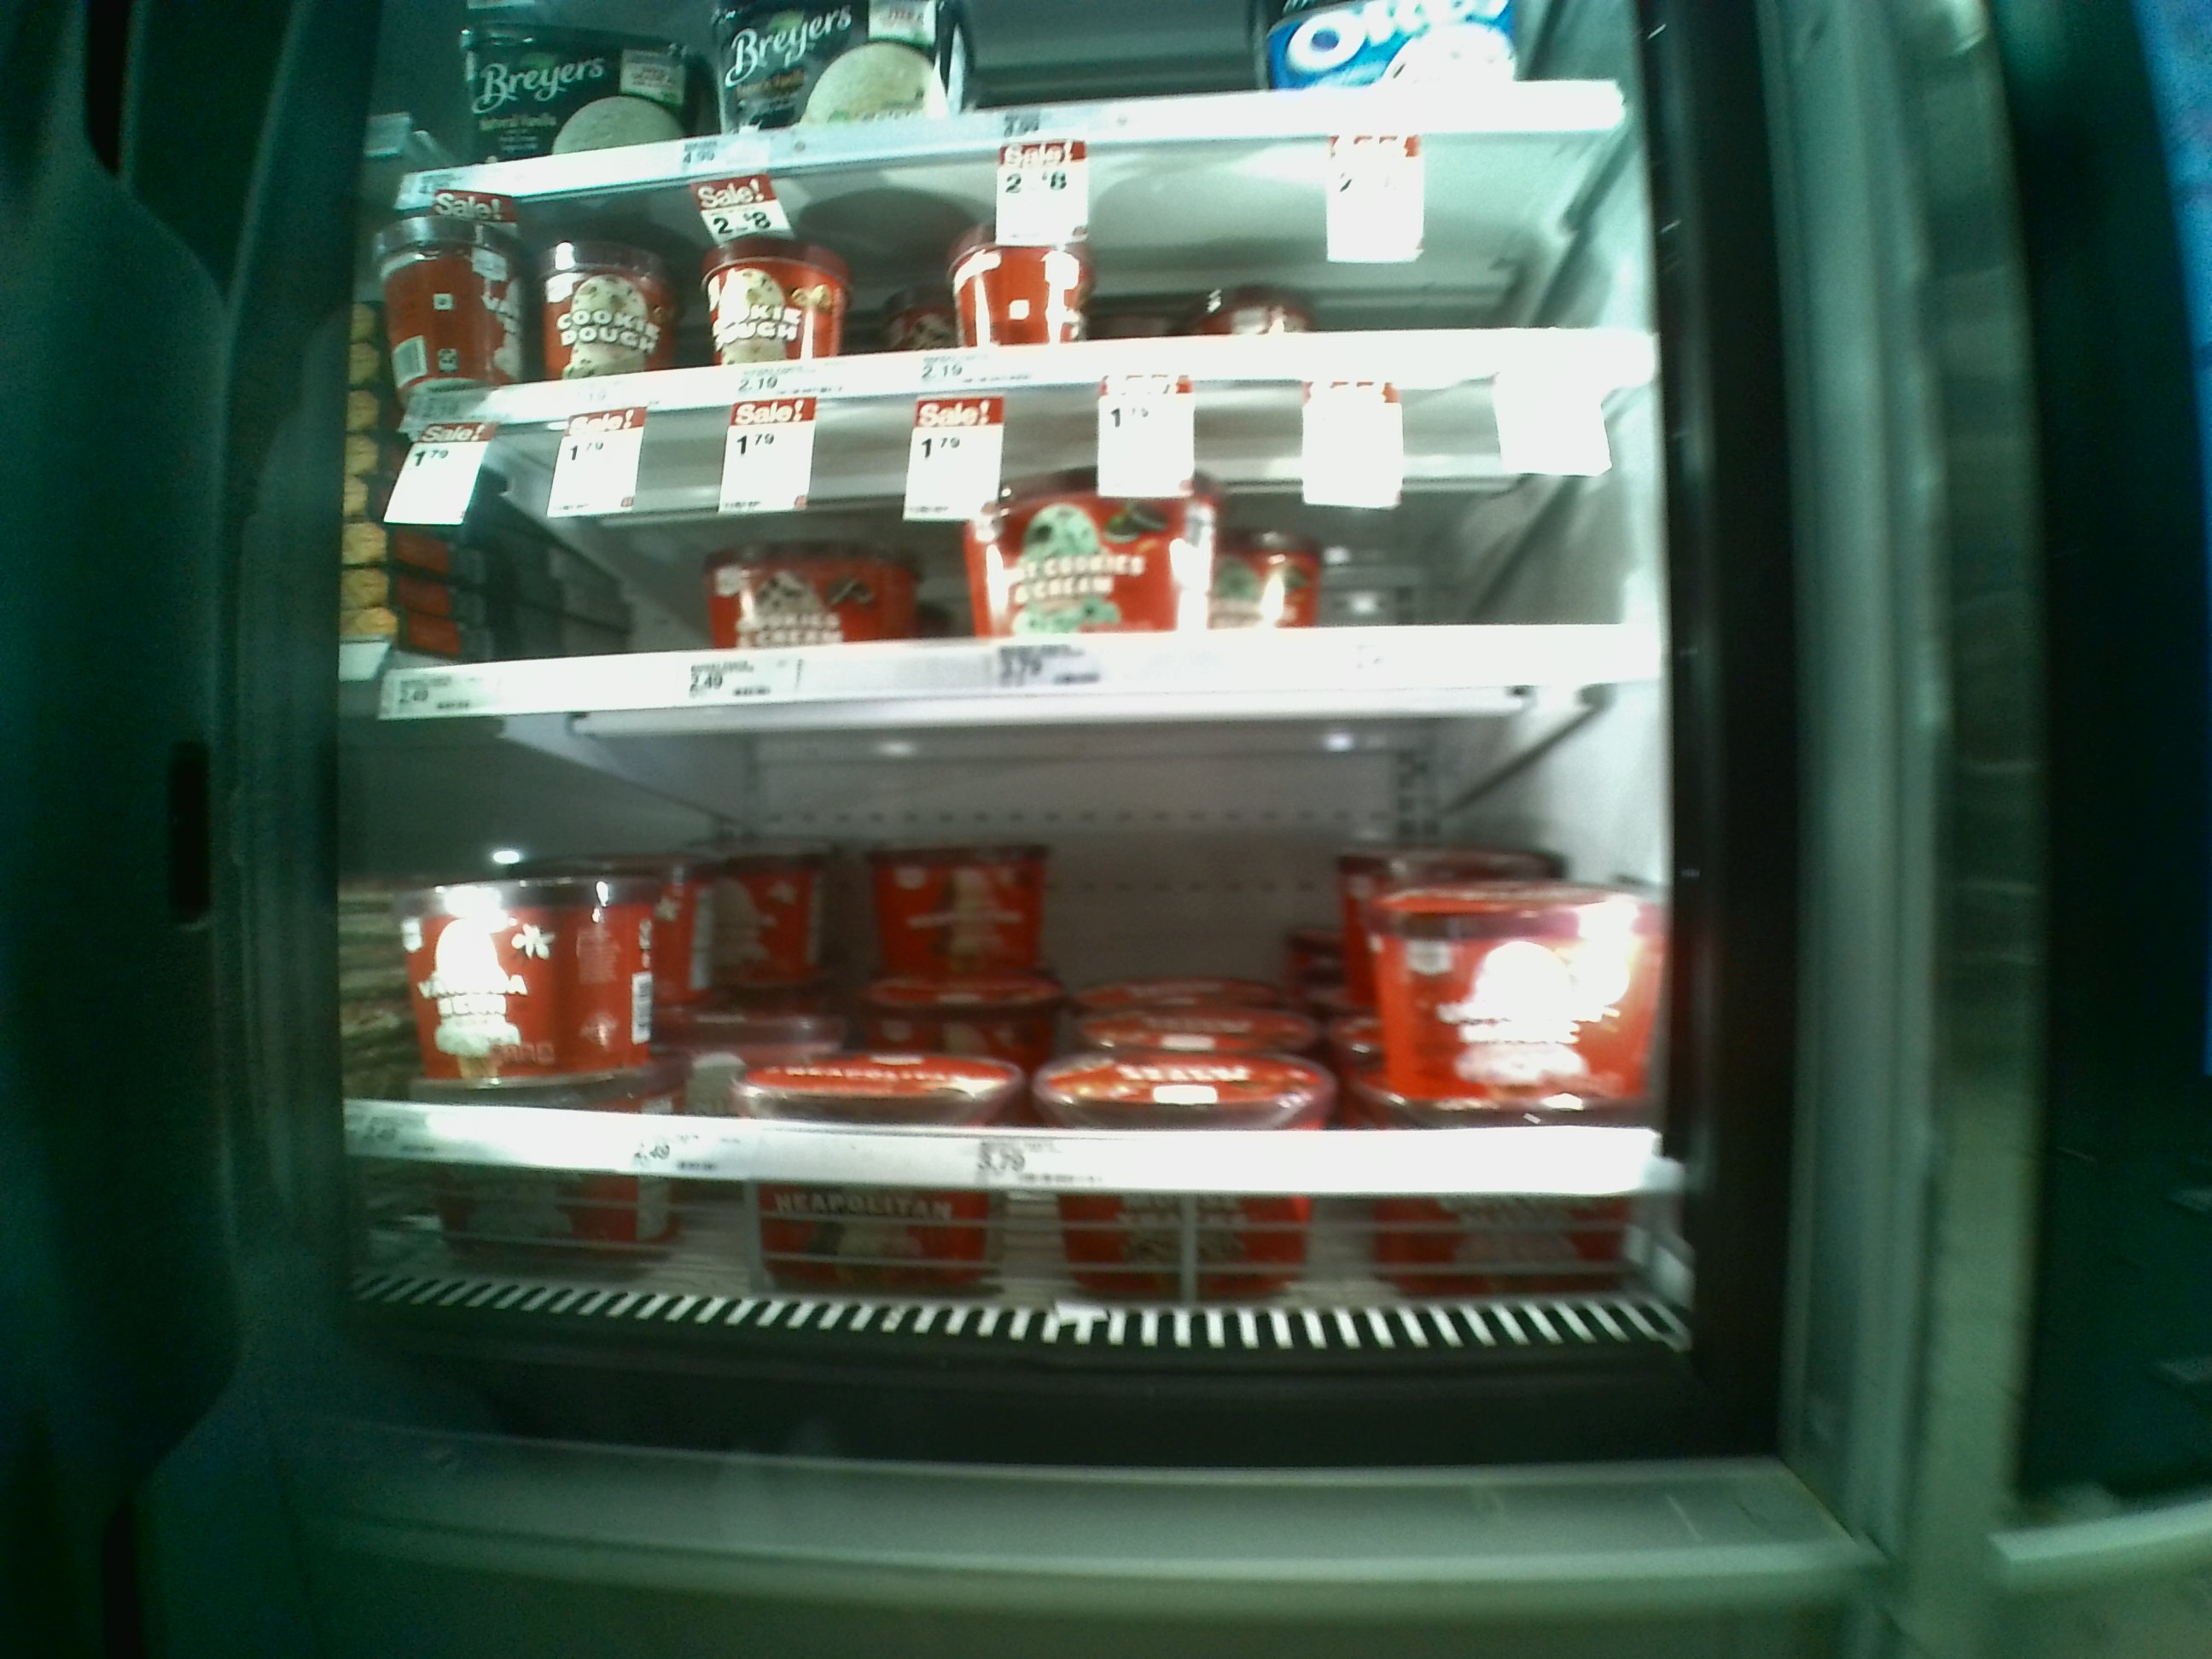shelf: (354, 711, 1691, 1201), (411, 425, 1689, 711), (394, 146, 1656, 403)
